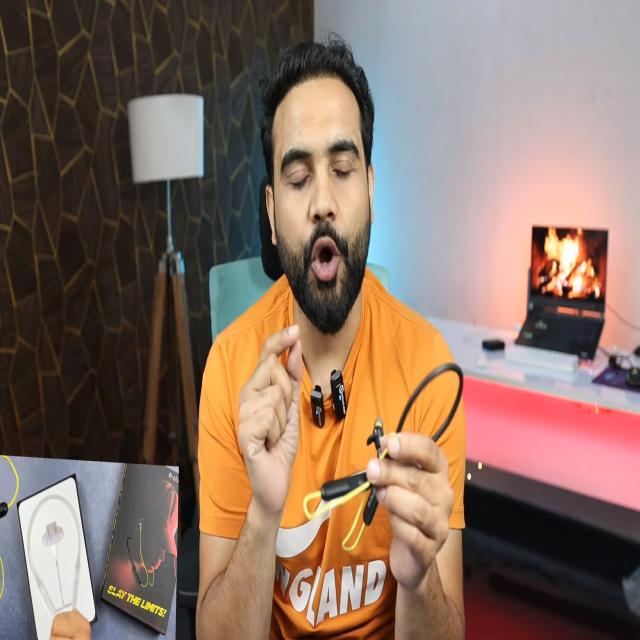Neckband: (302, 363, 463, 552)
